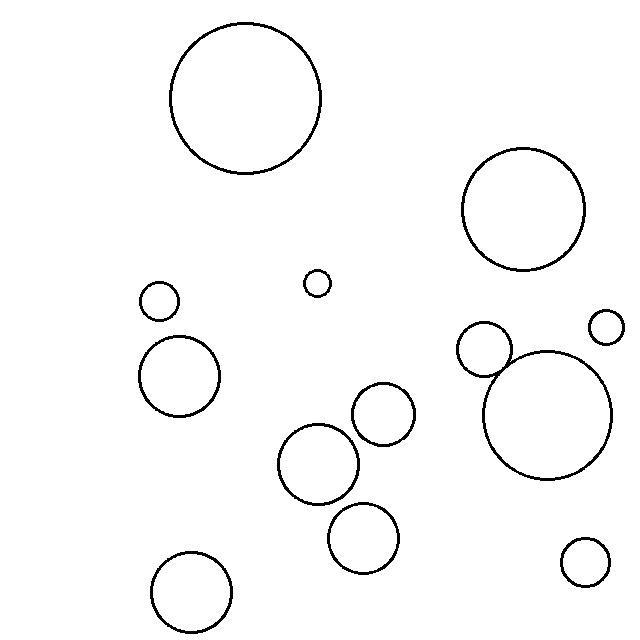circle: (167, 18, 325, 178), (479, 347, 617, 483), (461, 143, 589, 274), (134, 332, 225, 421), (274, 421, 362, 508), (149, 548, 236, 635), (325, 499, 403, 578), (350, 379, 419, 450), (454, 319, 515, 378), (557, 535, 614, 591), (136, 278, 184, 324), (587, 307, 628, 348), (301, 268, 335, 300)
